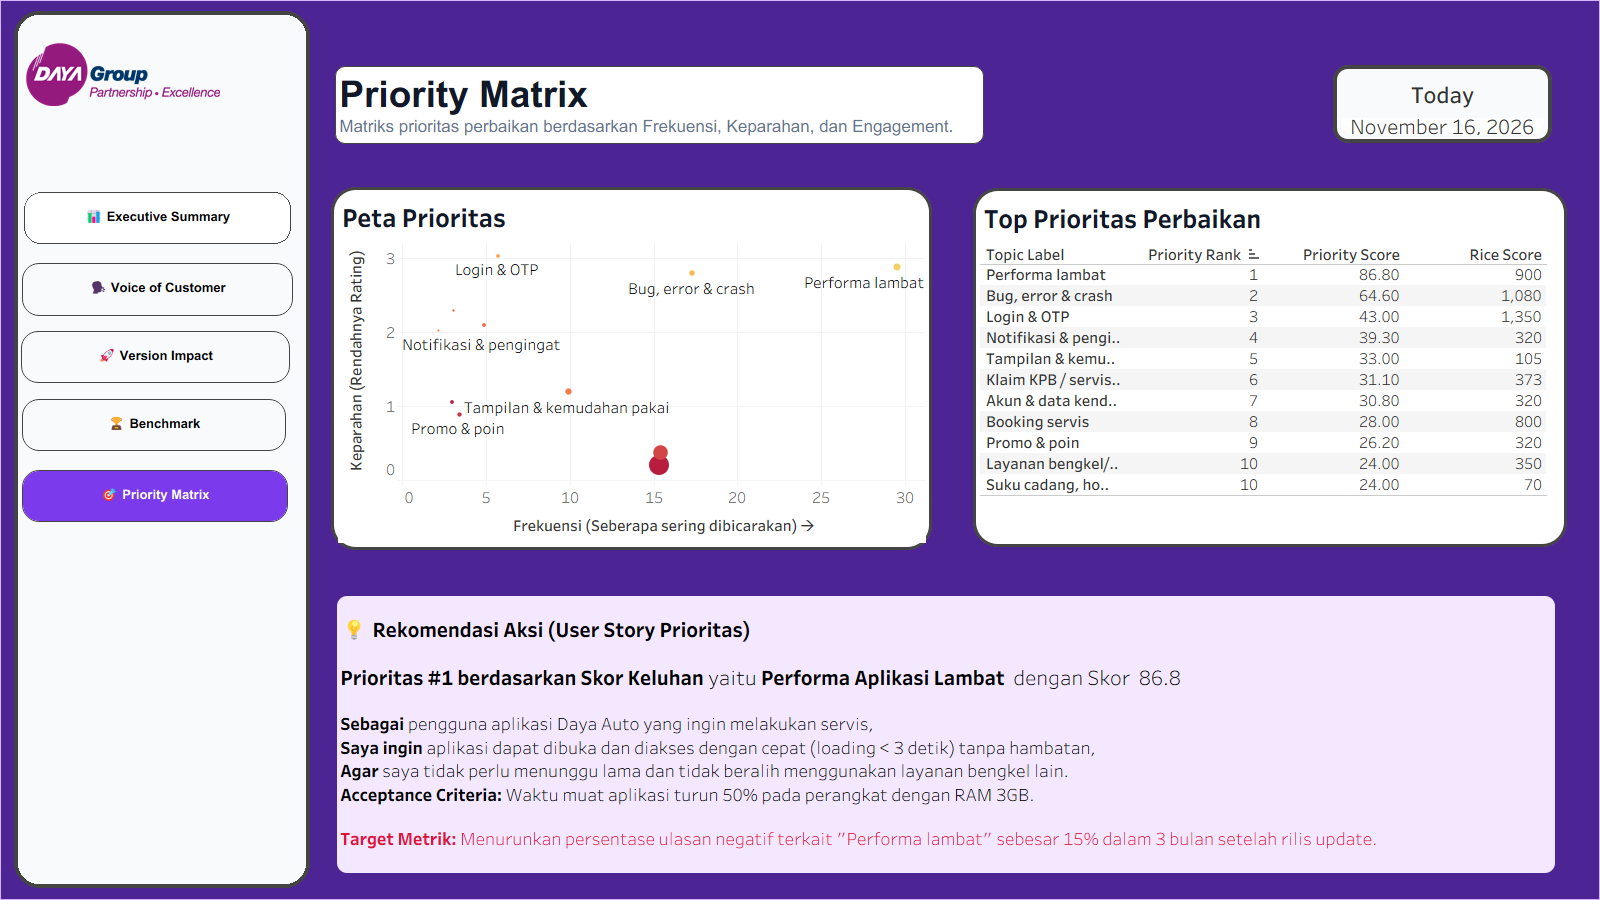

The dashboard page shown, as its layout file describes it:
{"tool":"tableau","page":{"name":"Priority Matrix","canvas":[1600,900],"ordinal":2},"visuals":[{"type":"blank","box":[18.4,15.2,288,868.4]},{"type":"image","param":"C:/Users/hp/Downloads/LOGO-DAYA-GROUP-WEBSITE.png","box":[25.6,42.8,272,63]},{"type":"text","box":[335,66,649,78]},{"type":"worksheet","title":"Today Card","mark":"Automatic","box":[1337,69,211,70]},{"type":"worksheet","title":"Priority Matrix(buble)","mark":"Circle","rows":["severity"],"cols":["freq_pct"],"box":[334,190,595,357]},{"type":"worksheet","title":"Tabel Prioritas","mark":"Text","rows":["topic_label"],"box":[976,191,588,309]},{"type":"dashboard-object","box":[24,192.4,267.2,51.7]},{"type":"dashboard-object","box":[22,263,271,53]},{"type":"dashboard-object","box":[20.8,330.8,268.8,51.7]},{"type":"dashboard-object","box":[22.4,399.4,264,51.7]},{"type":"dashboard-object","box":[22.4,470.2,265.6,51.7]},{"type":"text","box":[333,592,1226,285]}]}

Visuals, with their boxes in screenshot pixels (x1, y1, x2, y2), scaled from the page's 1600x900 canvas onto the 1600x900 screenshot:
blank: (left=18, top=15, right=306, bottom=884)
image: (left=26, top=43, right=298, bottom=106)
text: (left=335, top=66, right=984, bottom=144)
"Today Card" worksheet: (left=1337, top=69, right=1548, bottom=139)
"Priority Matrix(buble)" worksheet (Circle marks): (left=334, top=190, right=929, bottom=547)
"Tabel Prioritas" worksheet (Text marks): (left=976, top=191, right=1564, bottom=500)
dashboard-object: (left=24, top=192, right=291, bottom=244)
dashboard-object: (left=22, top=263, right=293, bottom=316)
dashboard-object: (left=21, top=331, right=290, bottom=382)
dashboard-object: (left=22, top=399, right=286, bottom=451)
dashboard-object: (left=22, top=470, right=288, bottom=522)
text: (left=333, top=592, right=1559, bottom=877)
